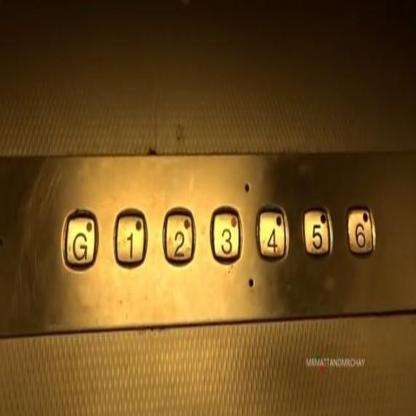1: (110, 200, 149, 274)
2: (160, 202, 198, 270)
3: (205, 200, 244, 270)
4: (252, 198, 291, 268)
5: (299, 199, 334, 263)
6: (342, 198, 378, 262)
G: (58, 202, 100, 275)
